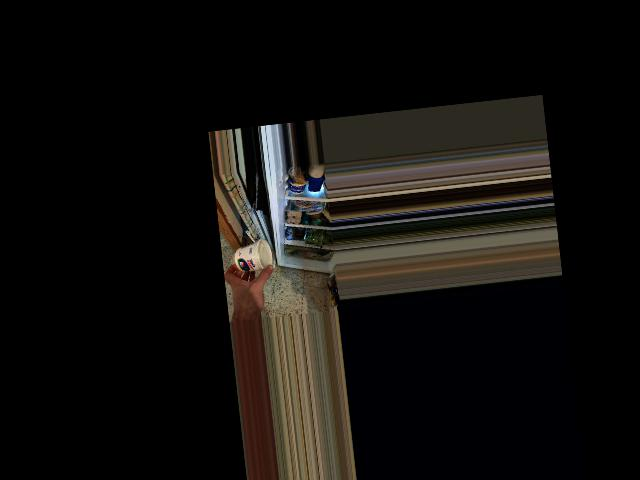cotage: (231, 238, 274, 278)
